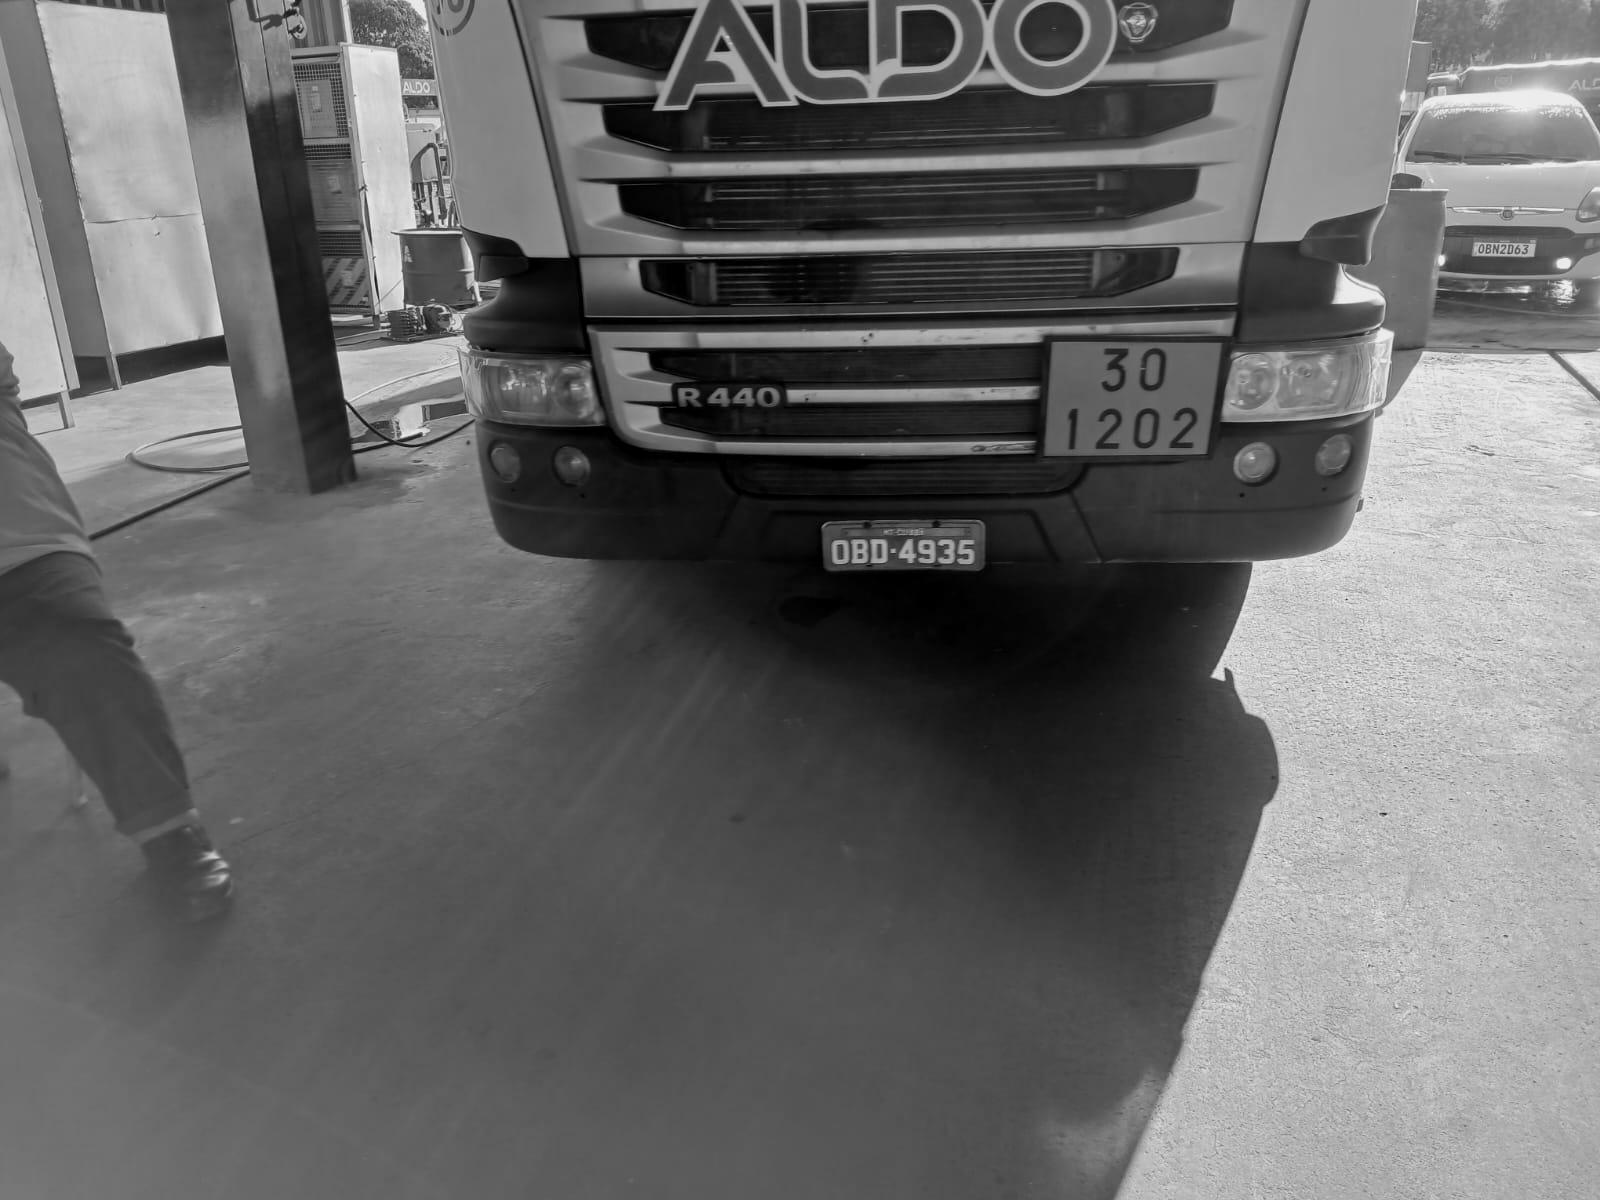placa_antiga: (822, 521, 985, 571)
